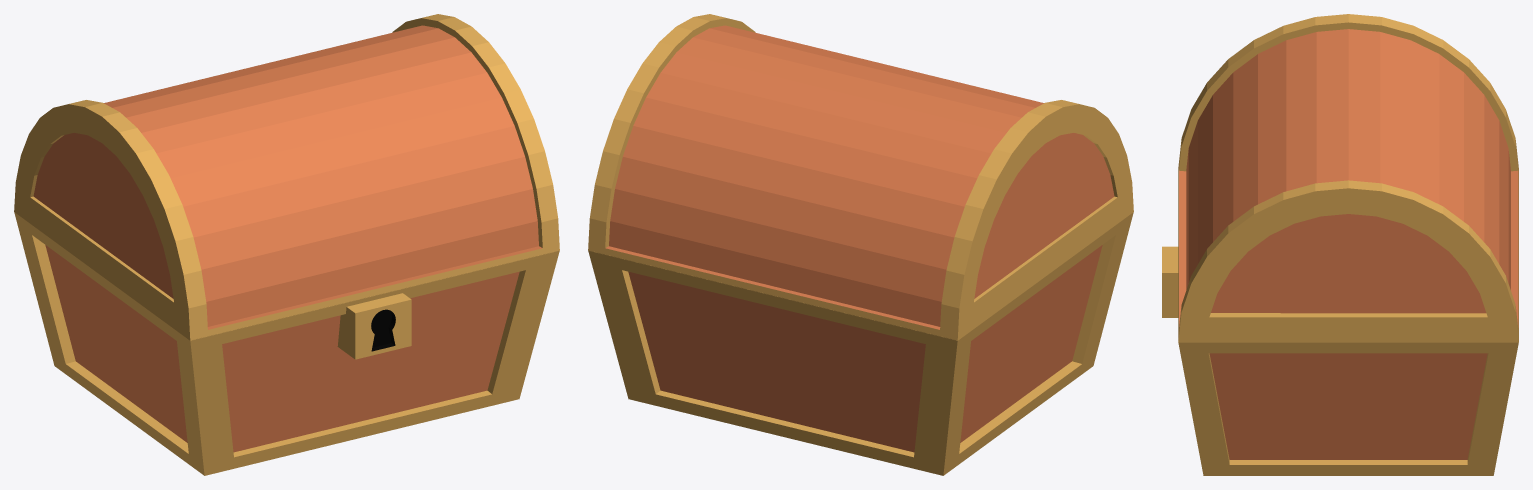
The picture shows the model from 3 angles, left to right: view 1: azimuth 30°, elevation 25°; view 2: azimuth 150°, elevation 25°; view 3: azimuth 270°, elevation 25°; orthographic projection. The views are drawn at different scales.
Parts seen in each view (by area): view 1: 立方体, 円; view 2: 立方体, 円; view 3: 立方体, 円.001.
Part boxes in pixels (<box>): 立方体: <box>14,14,559,475</box>; 円: <box>33,133,173,298</box>; 立方体: <box>588,14,1133,475</box>; 円: <box>974,133,1114,298</box>; 立方体: <box>1162,14,1518,475</box>; 円.001: <box>1211,214,1486,313</box>.
Size of the model in its own units: 242 by 195 by 210.
